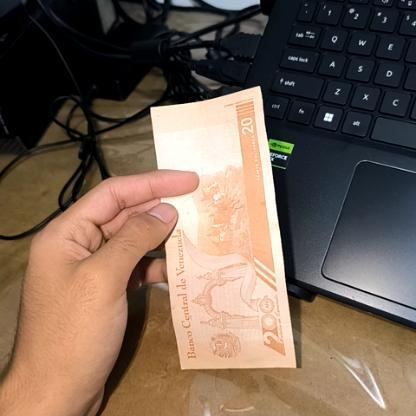twenty-back-vef: (150, 87, 296, 370)
